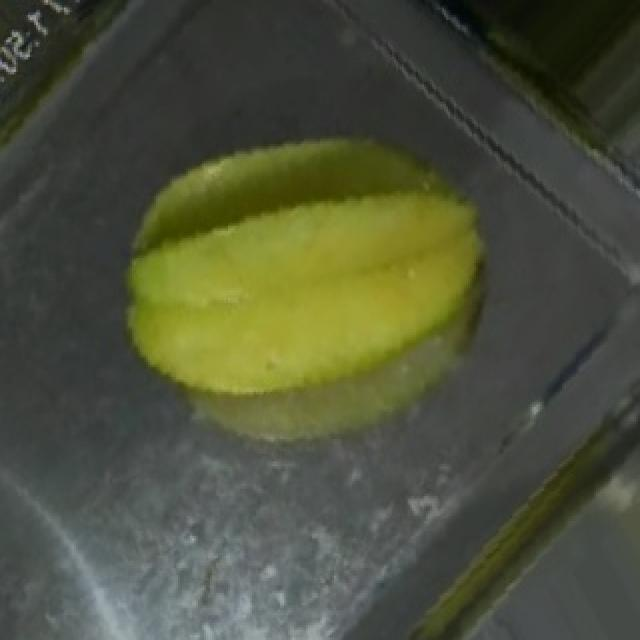fruit: (104, 0, 608, 531)
